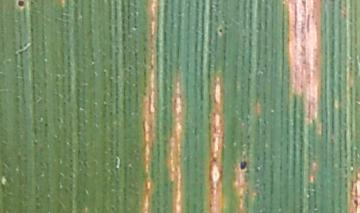tarspot: (237, 157, 249, 172), (14, 1, 26, 10)
